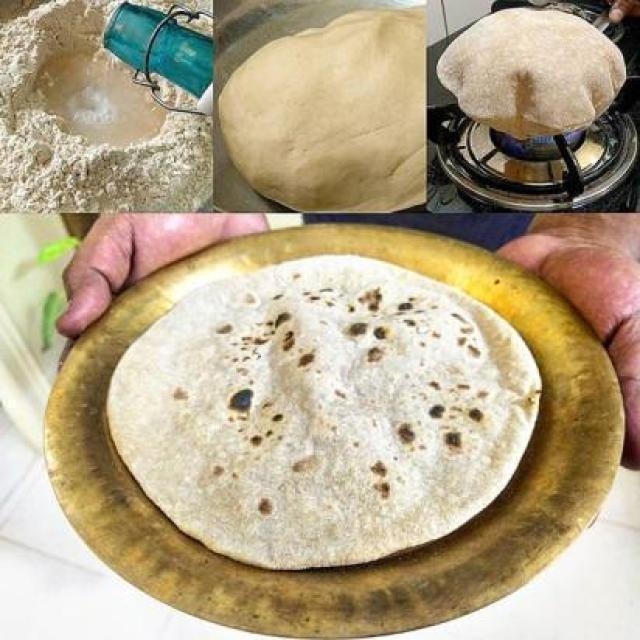alooparatha-chapati: (118, 268, 545, 568)
